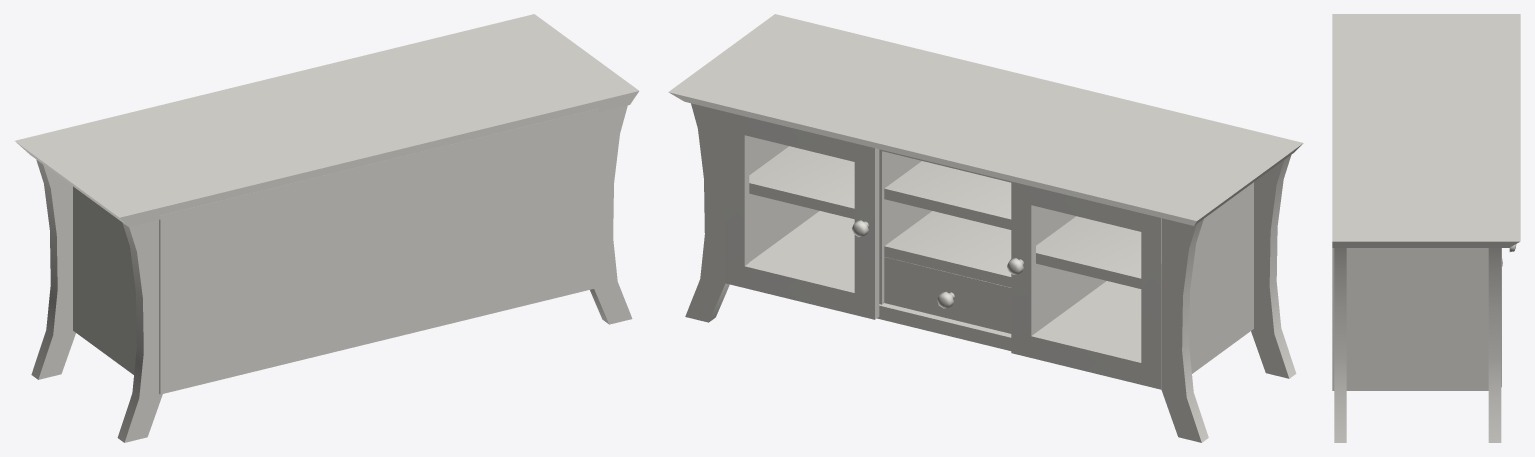
File: tivi3.glb
The picture shows the model from 3 angles, left to right: view 1: azimuth 30°, elevation 25°; view 2: azimuth 150°, elevation 25°; view 3: azimuth 270°, elevation 25°; orthographic projection. The views are drawn at different scales.
Parts seen in each view (by area): view 1: node_id239; view 2: node_id239, node_id241; view 3: node_id239.
Boxes of the visible parts, <box> form: node_id239: <box>15,14,638,442</box>; node_id239: <box>668,14,1303,442</box>; node_id241: <box>852,220,1023,308</box>; node_id239: <box>1332,14,1520,442</box>.
Size of the model in its own units: 0.512 by 0.2141 by 0.1792.
2 materials, 2 textured.
